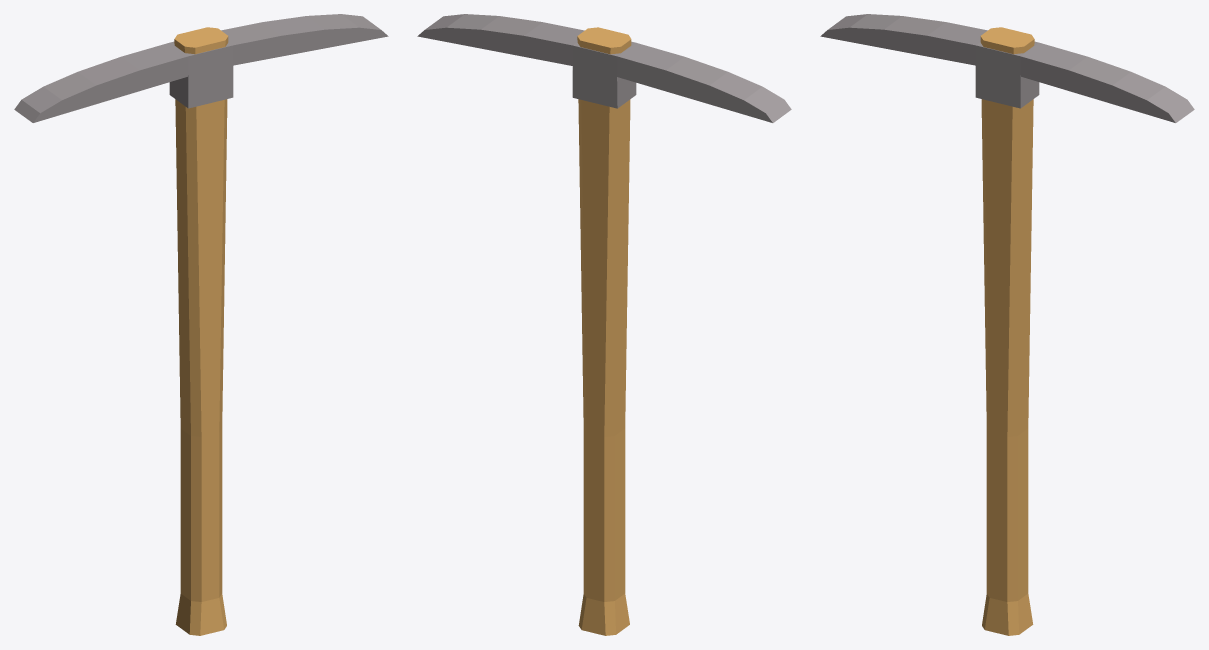
Rendered from B_Base_Pickaxe_Model.fbx.
3 renders of one model, left to right at view 1: azimuth 30°, elevation 25°; view 2: azimuth 150°, elevation 25°; view 3: azimuth 330°, elevation 25°, orthographic.
Parts seen in each view (by area): view 1: Cube, Cube.001; view 2: Cube, Cube.001; view 3: Cube, Cube.001.
Boxes of the visible parts, bbox=[...] form: Cube: bbox=[174, 27, 228, 635]; Cube.001: bbox=[14, 14, 388, 122]; Cube: bbox=[577, 27, 631, 635]; Cube.001: bbox=[417, 14, 791, 122]; Cube: bbox=[980, 27, 1034, 635]; Cube.001: bbox=[820, 14, 1194, 122].
Size of the model in its own units: 57.06 by 90 by 6.
